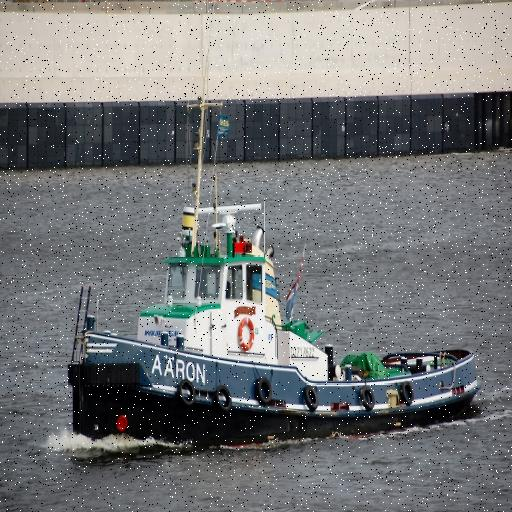tugboat: (66, 186, 486, 462)
